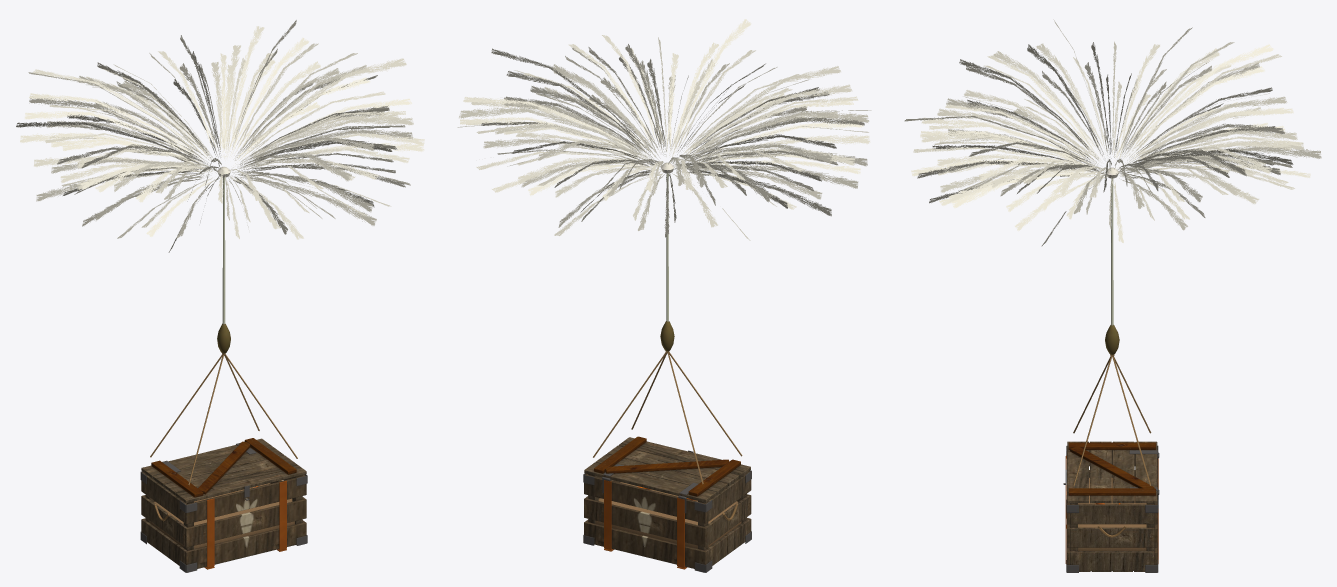
The model's file is supply_drop.glb.
3 renders of one model, left to right at view 1: azimuth 30°, elevation 25°; view 2: azimuth 150°, elevation 25°; view 3: azimuth 270°, elevation 25°, orthographic.
Parts seen in each view (by area): view 1: Chute, supply_drop, Lid; view 2: Chute, supply_drop, Lid; view 3: Chute, supply_drop, Lid.
Boxes of the visible parts, bbox=[...] form: Chute: bbox=[16, 20, 424, 485]; supply_drop: bbox=[140, 471, 307, 572]; Lid: bbox=[141, 438, 306, 503]; Chute: bbox=[457, 19, 871, 484]; supply_drop: bbox=[583, 470, 751, 572]; Lid: bbox=[584, 436, 750, 502]; Chute: bbox=[904, 19, 1321, 485]; supply_drop: bbox=[1063, 445, 1159, 572]; Lid: bbox=[1065, 441, 1157, 503].
Bounding box in the file's own units: 2.36 × 2.85 × 2.41.
Materials: 2 (2 with a texture image).
